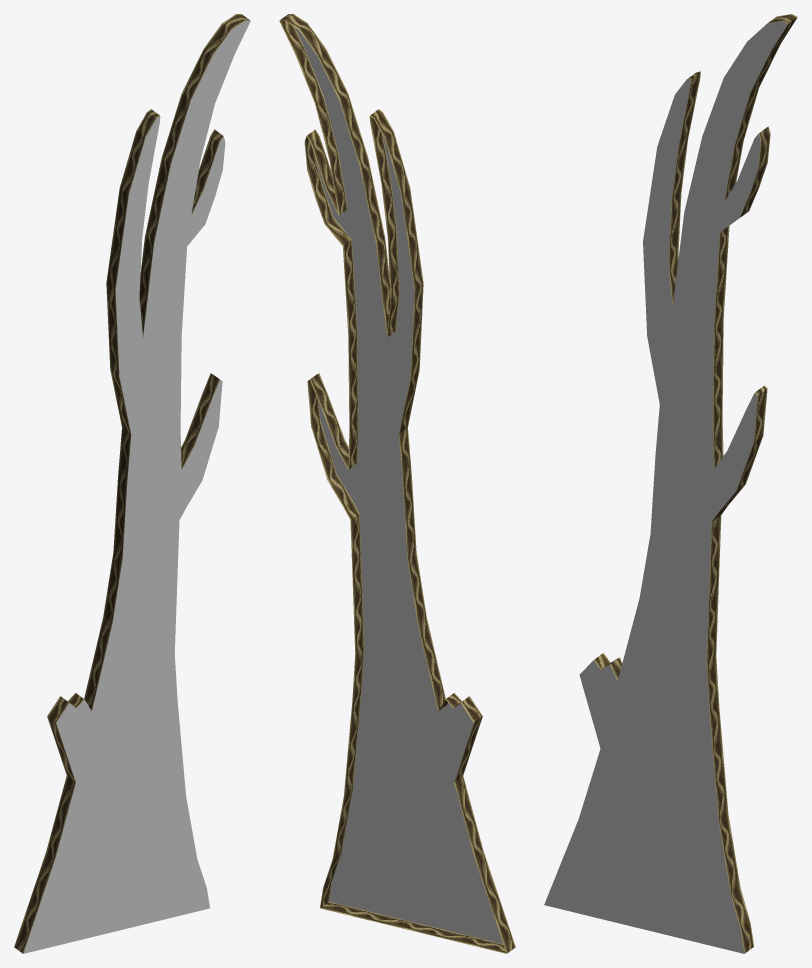
Rendered from tree_04.fbx.
3 renders of one model, left to right at view 1: azimuth 30°, elevation 25°; view 2: azimuth 150°, elevation 25°; view 3: azimuth 330°, elevation 25°, orthographic. The views are drawn at different scales.
Visible parts, largest first — view 1: tree_04; view 2: tree_04; view 3: tree_04.
Boxes of the visible parts, x1=… form: tree_04: x1=14, y1=14, x2=250, y2=953; tree_04: x1=279, y1=14, x2=515, y2=953; tree_04: x1=544, y1=14, x2=797, y2=953.
Bounding box in the file's own units: 1.14 × 4.19 × 0.0795.
